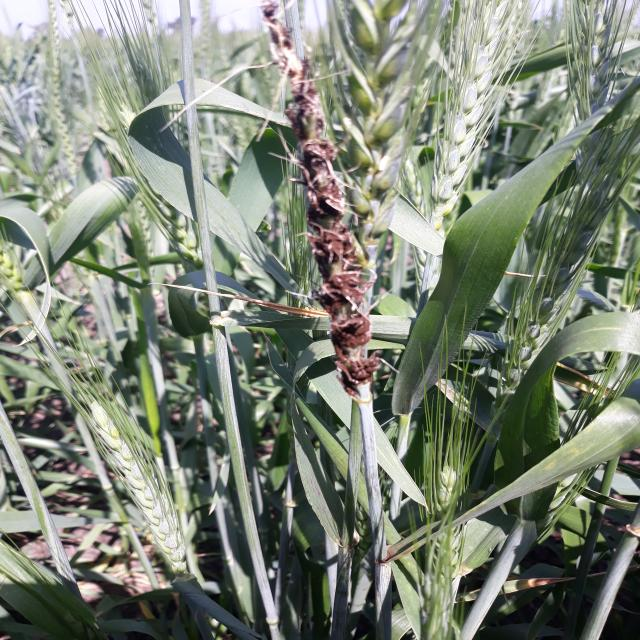healthy_wheat: (0, 149, 139, 363)
loose_charred: (236, 0, 411, 442), (325, 524, 367, 618)
yellow_rust: (551, 361, 608, 400)
